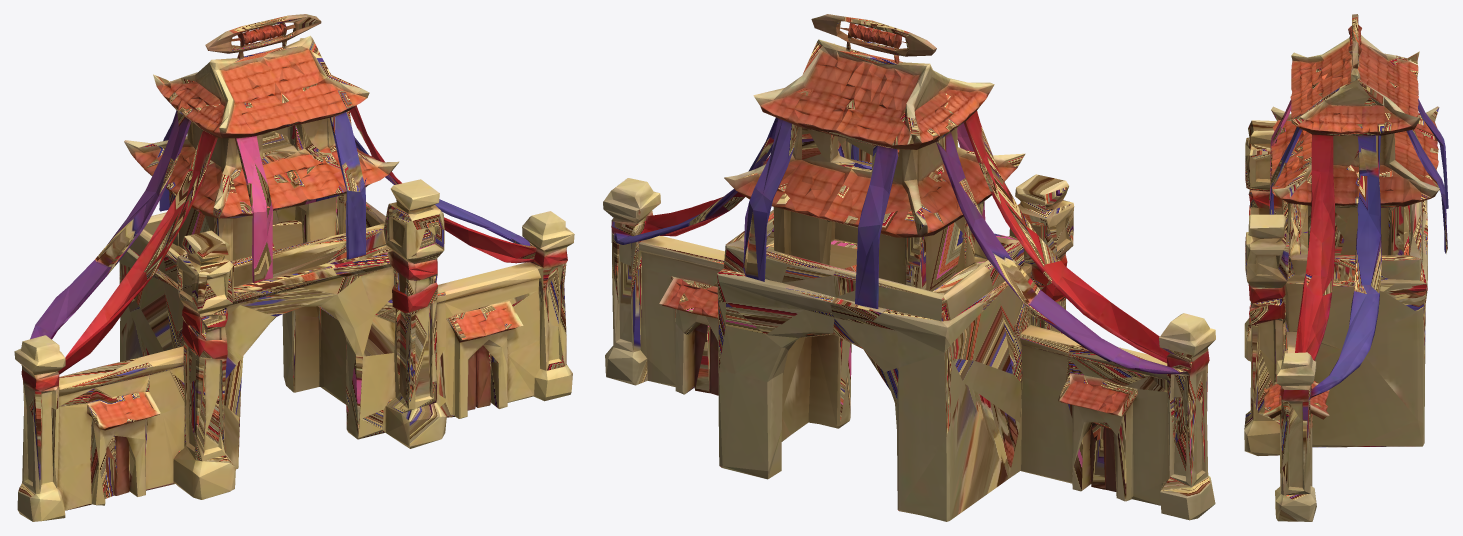
Rendered from cong-lang-det-xa.275542d9.glb.
3 views of the same model, side by side, from view 1: azimuth 30°, elevation 25°; view 2: azimuth 150°, elevation 25°; view 3: azimuth 270°, elevation 25° (orthographic). The views are drawn at different scales.
Parts seen in each view (by area): view 1: tripo_node_4edadad4-5720-47c2-8cad-e43b7fd33daa; view 2: tripo_node_4edadad4-5720-47c2-8cad-e43b7fd33daa; view 3: tripo_node_4edadad4-5720-47c2-8cad-e43b7fd33daa.
Part boxes in pixels (x1,y1,x2,y2): tripo_node_4edadad4-5720-47c2-8cad-e43b7fd33daa: [14, 14, 574, 521]; tripo_node_4edadad4-5720-47c2-8cad-e43b7fd33daa: [603, 14, 1215, 521]; tripo_node_4edadad4-5720-47c2-8cad-e43b7fd33daa: [1244, 14, 1448, 521].
Size of the model in its own units: 0.9783 by 0.702 by 0.3486.
1 material, 1 textured.
